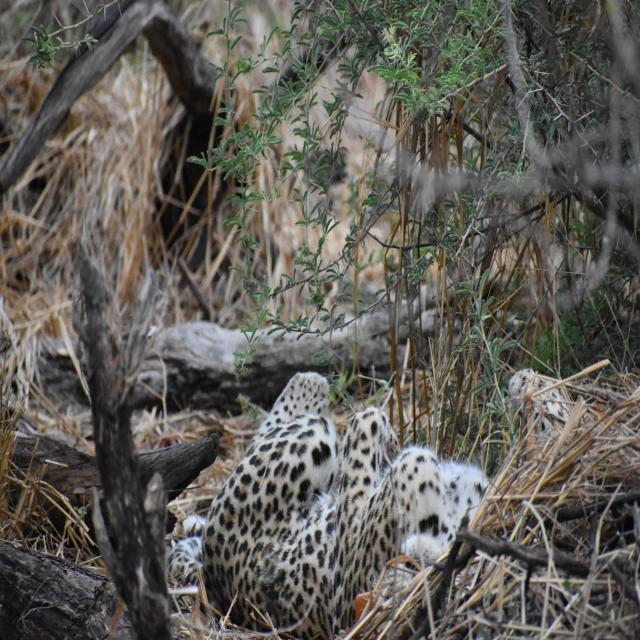Leopard: (162, 356, 493, 640)
